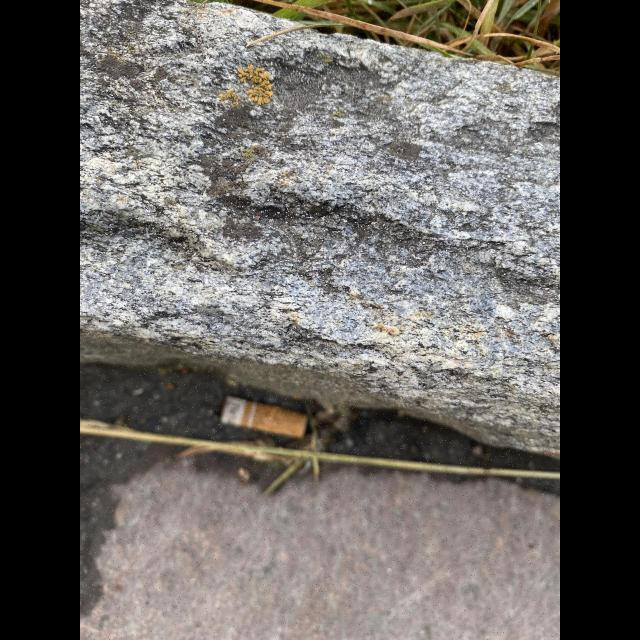cigarette: (221, 395, 306, 438)
